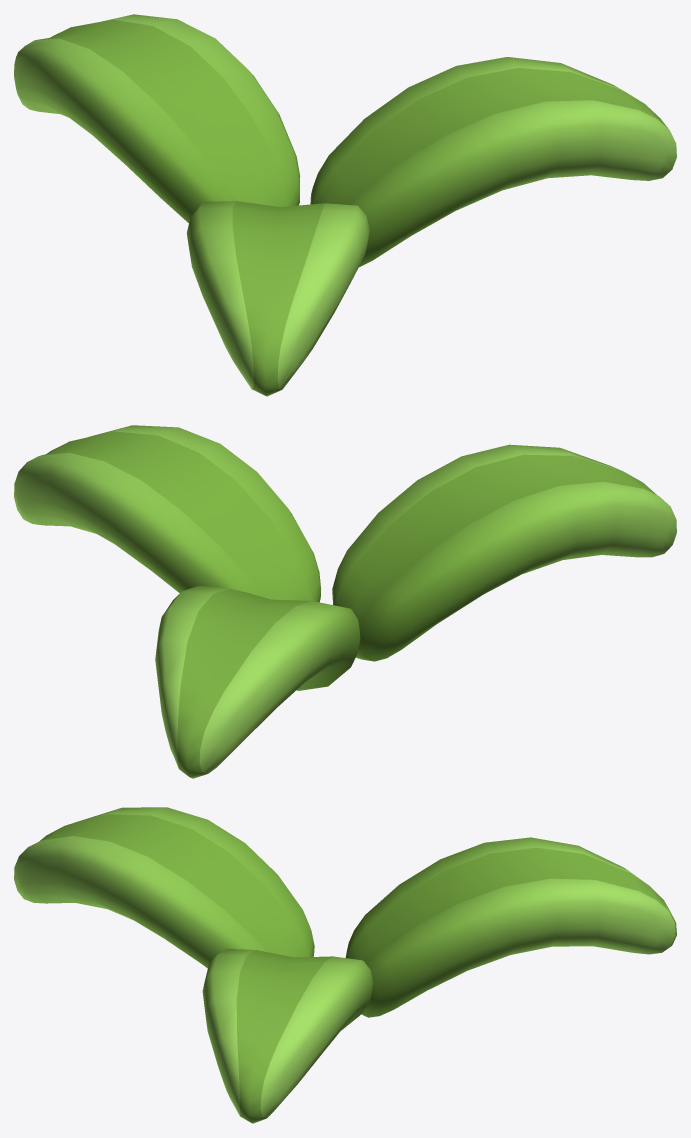
The model's file is Character_Plant2.fbx.
3 views of the same model, one above another, from view 1: azimuth 30°, elevation 25°; view 2: azimuth 150°, elevation 25°; view 3: azimuth 270°, elevation 25° (orthographic). The views are drawn at different scales.
Visible parts, largest first — view 1: grass_2; view 2: grass_2; view 3: grass_2.
Boxes of the visible parts, bbox=[...] form: grass_2: bbox=[14, 14, 676, 396]; grass_2: bbox=[14, 425, 676, 778]; grass_2: bbox=[14, 807, 676, 1123].
Size of the model in its own units: 81.45 by 21.86 by 95.52.
Materials: 1 (1 with a texture image).
